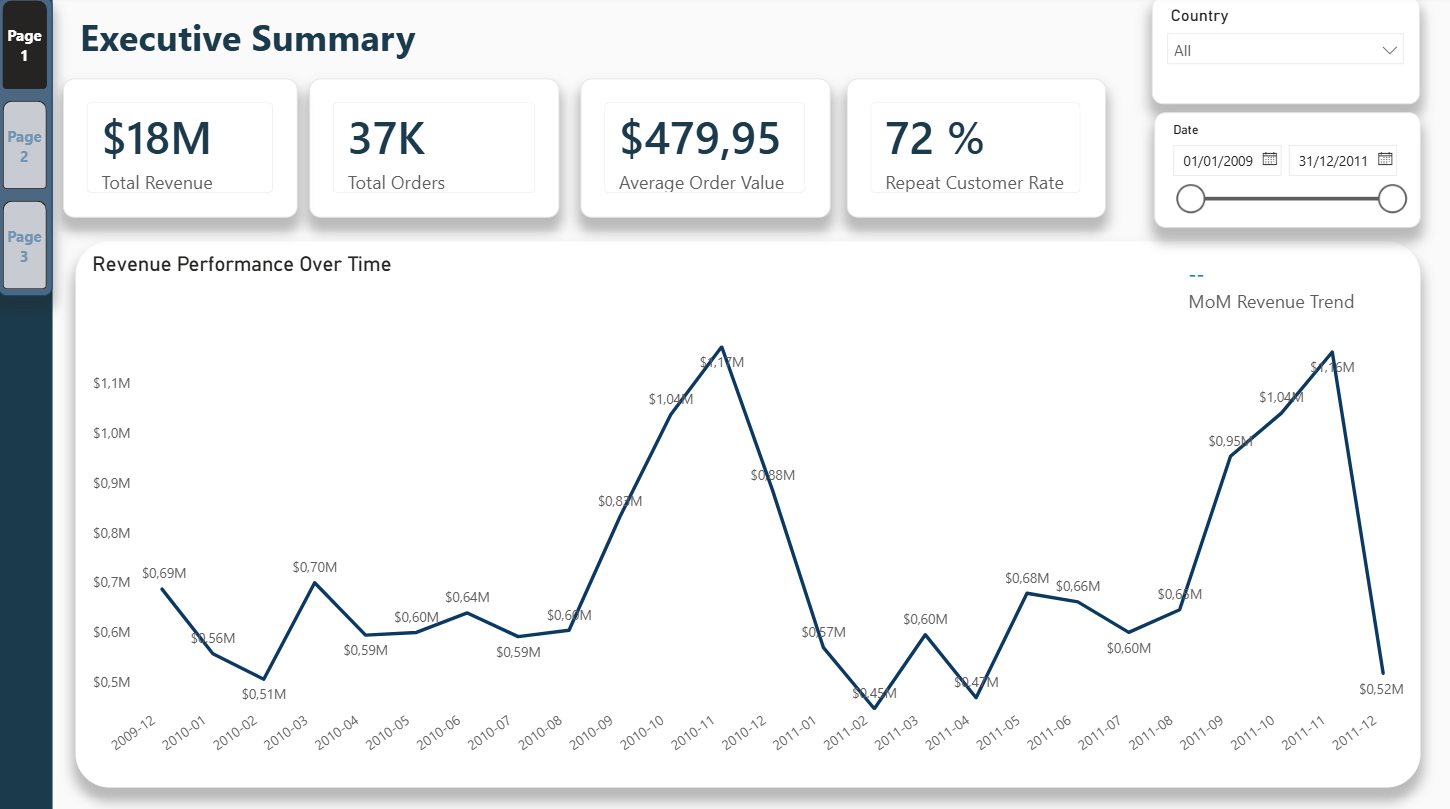

The page's visual inventory and layout, read from the dashboard file:
{"tool":"powerbi","page":{"name":"Page 1","canvas":[1280,720],"ordinal":0},"visuals":[{"type":"cardVisual","fields":{"Data":["online_retail_cleaned.Repeat Customer Rate"]},"box":[746.1,72.4,227.7,122.8],"z":1000},{"type":"cardVisual","fields":{"Data":["online_retail_cleaned.Total Orders"]},"box":[273.9,72.4,220.4,122.8],"z":2000},{"type":"slicer","fields":{"Values":["online_retail_cleaned.Country"]},"box":[1015.3,0,235.7,95.2],"z":3000},{"type":"lineChart","title":"Monthly Revenue Trend","fields":{"Y":["online_retail_cleaned.Total Revenue"],"Category":["Calendario.Año-Mes"]},"box":[68,215.3,1183,480.5],"z":4000},{"type":"textbox","box":[67,9,310,53],"z":5000},{"type":"shape","box":[0,0,48,720],"z":6000},{"type":"pageNavigator","box":[0,0,47.6,264.3],"z":7000},{"type":"cardVisual","fields":{"Data":["online_retail_cleaned.Total Revenue"]},"box":[56.7,72.4,206.7,122.8],"z":8000},{"type":"cardVisual","fields":{"Data":["online_retail_cleaned.Average Order Value"]},"box":[512.1,72.4,219.8,122.4],"z":9000},{"type":"cardVisual","fields":{"Data":["online_retail_cleaned.Revenue Trend"]},"box":[1062.2,215.1,170.6,79.7],"z":10000},{"type":"slicer","fields":{"Values":["Calendario.Date"]},"box":[1017.6,102,234.1,93.6],"z":11000}]}

Visuals, with their boxes on the page's 1280x720 design canvas (x1, y1, x2, y2). These are canvas units, not pixel positions in the 1450x809 screenshot, which may show the page scaled, cropped or inside an application window:
cardVisual - online_retail_cleaned.Repeat Customer Rate: (746, 72, 974, 195)
cardVisual - online_retail_cleaned.Total Orders: (274, 72, 494, 195)
slicer - online_retail_cleaned.Country: (1015, 0, 1251, 95)
"Monthly Revenue Trend" lineChart: (68, 215, 1251, 696)
textbox: (67, 9, 377, 62)
shape: (0, 0, 48, 720)
pageNavigator: (0, 0, 48, 264)
cardVisual - online_retail_cleaned.Total Revenue: (57, 72, 263, 195)
cardVisual - online_retail_cleaned.Average Order Value: (512, 72, 732, 195)
cardVisual - online_retail_cleaned.Revenue Trend: (1062, 215, 1233, 295)
slicer - Calendario.Date: (1018, 102, 1252, 196)
